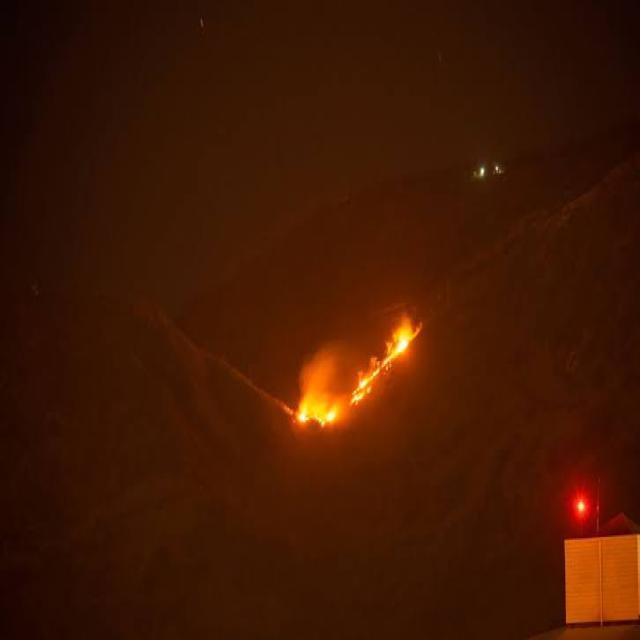Fire: (294, 398, 339, 430), (390, 320, 414, 369)
